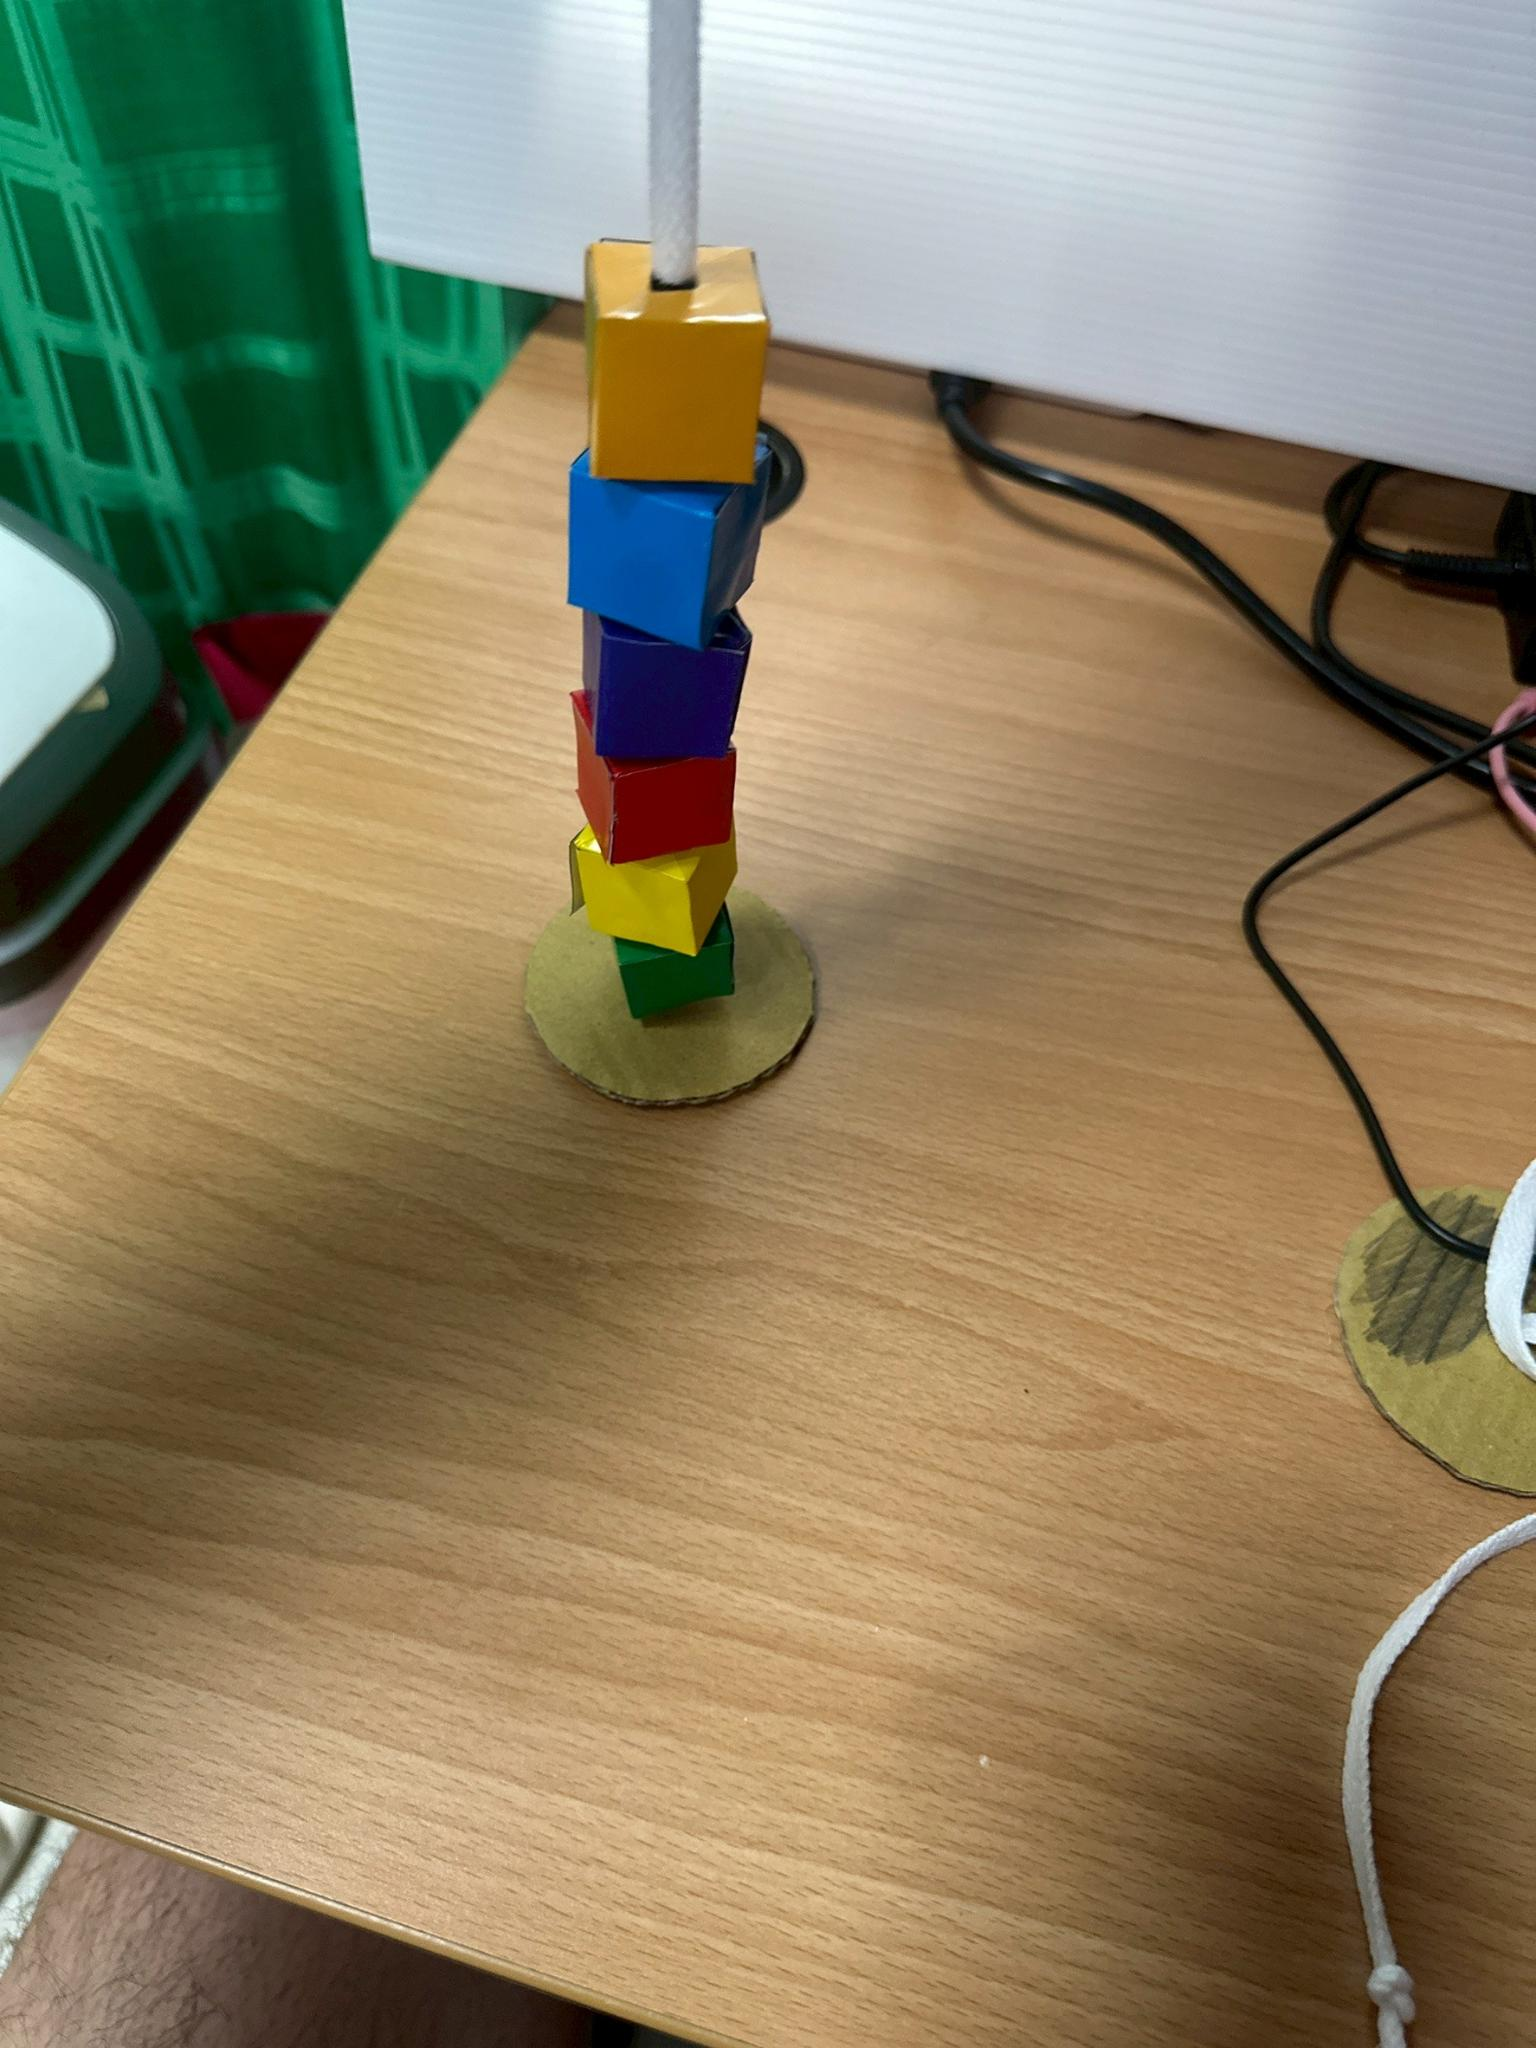base: (525, 887, 815, 1105)
